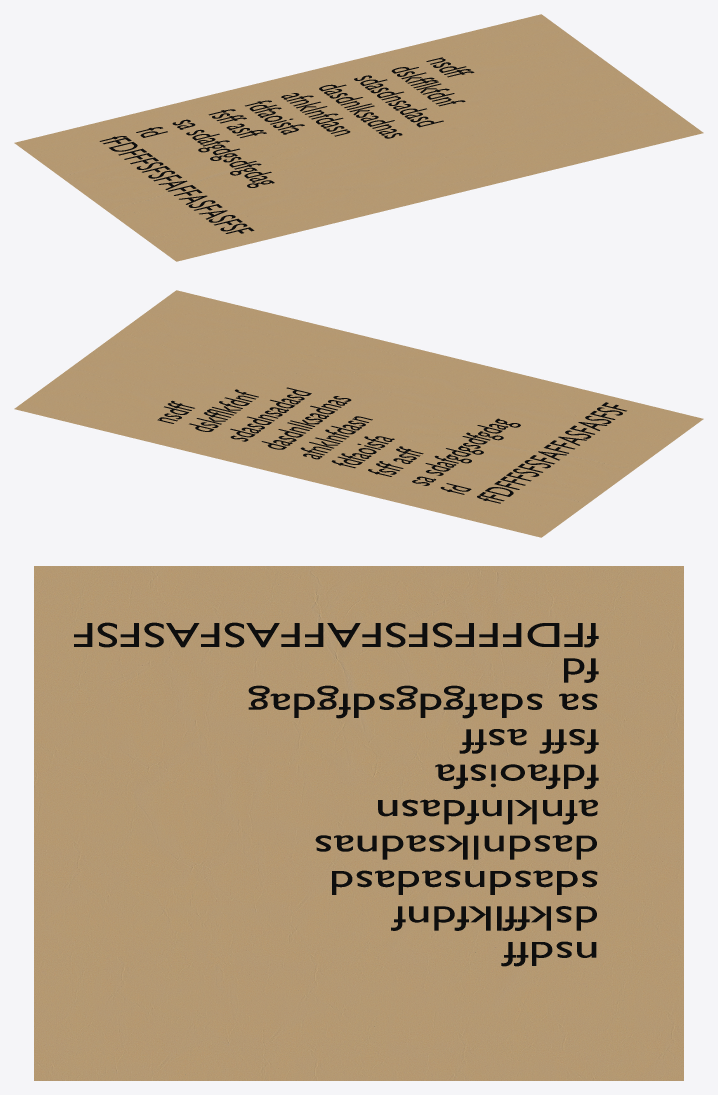
File: note.glb
3 renders of one model, top to bottom at view 1: azimuth 30°, elevation 25°; view 2: azimuth 150°, elevation 25°; view 3: azimuth 270°, elevation 25°, orthographic. The views are drawn at different scales.
Visible parts, largest first — view 1: Plane, Text; view 2: Plane, Text; view 3: Plane, Text.
Boxes of the visible parts, <box> form: Plane: <box>14,14,703,261</box>; Text: <box>99,57,474,233</box>; Plane: <box>14,290,703,537</box>; Text: <box>157,387,626,503</box>; Plane: <box>34,566,683,1080</box>; Text: <box>74,622,598,966</box>.
Size of the model in its own units: 0.15 by 0.000669 by 0.08.
2 materials, 1 textured.
